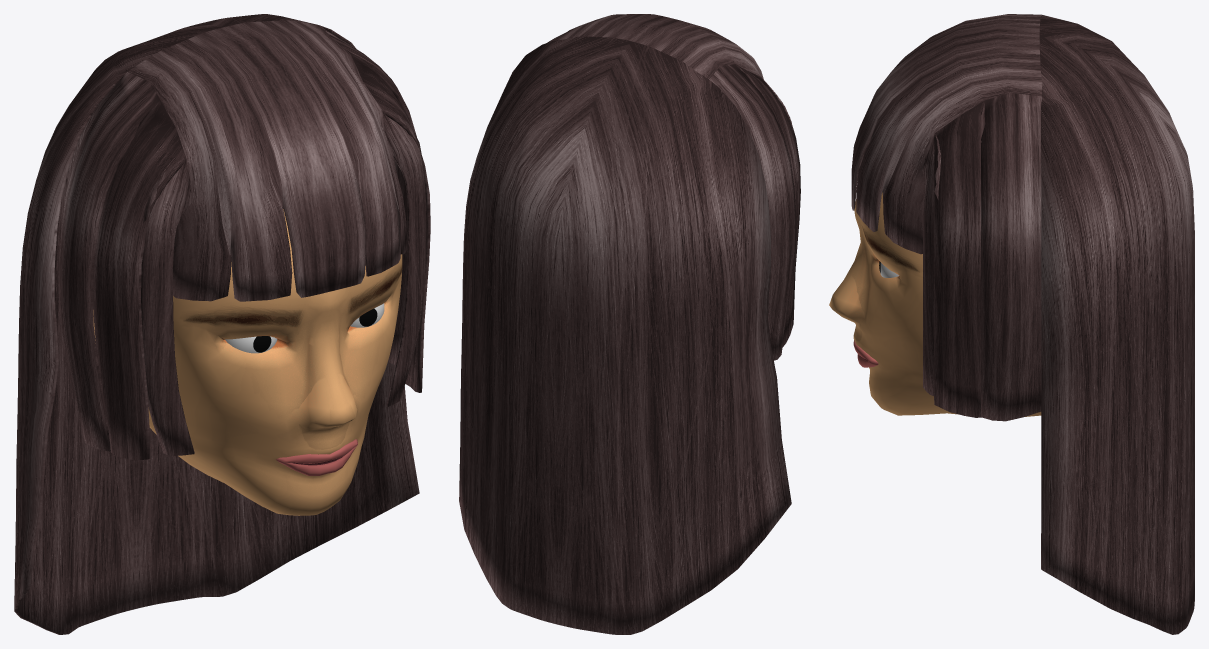
Rendered from BonnyPolyHair.glb.
The picture shows the model from 3 angles, left to right: view 1: azimuth 30°, elevation 25°; view 2: azimuth 150°, elevation 25°; view 3: azimuth 270°, elevation 25°; orthographic projection. The views are drawn at different scales.
Parts seen in each view (by area): view 1: HairPloy, Head, Mouth, Eyes; view 2: HairPloy; view 3: HairPloy, Head.
Boxes of the visible parts, bbox=[...] form: HairPloy: bbox=[14, 14, 430, 634]; Head: bbox=[148, 209, 402, 515]; Mouth: bbox=[276, 439, 357, 475]; Eyes: bbox=[225, 303, 384, 353]; HairPloy: bbox=[459, 14, 800, 634]; HairPloy: bbox=[851, 14, 1194, 634]; Head: bbox=[829, 192, 1041, 416].
Size of the model in its own units: 5.48 by 8.66 by 5.06.
7 materials, 3 textured.
